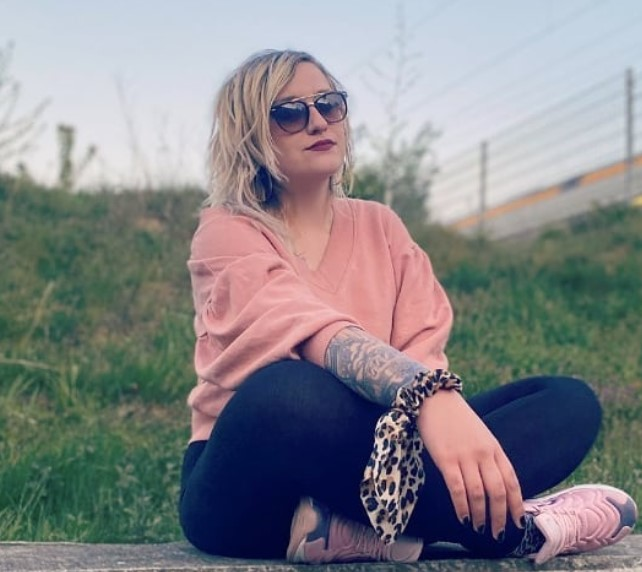face_no_mask: (234, 57, 353, 189)
